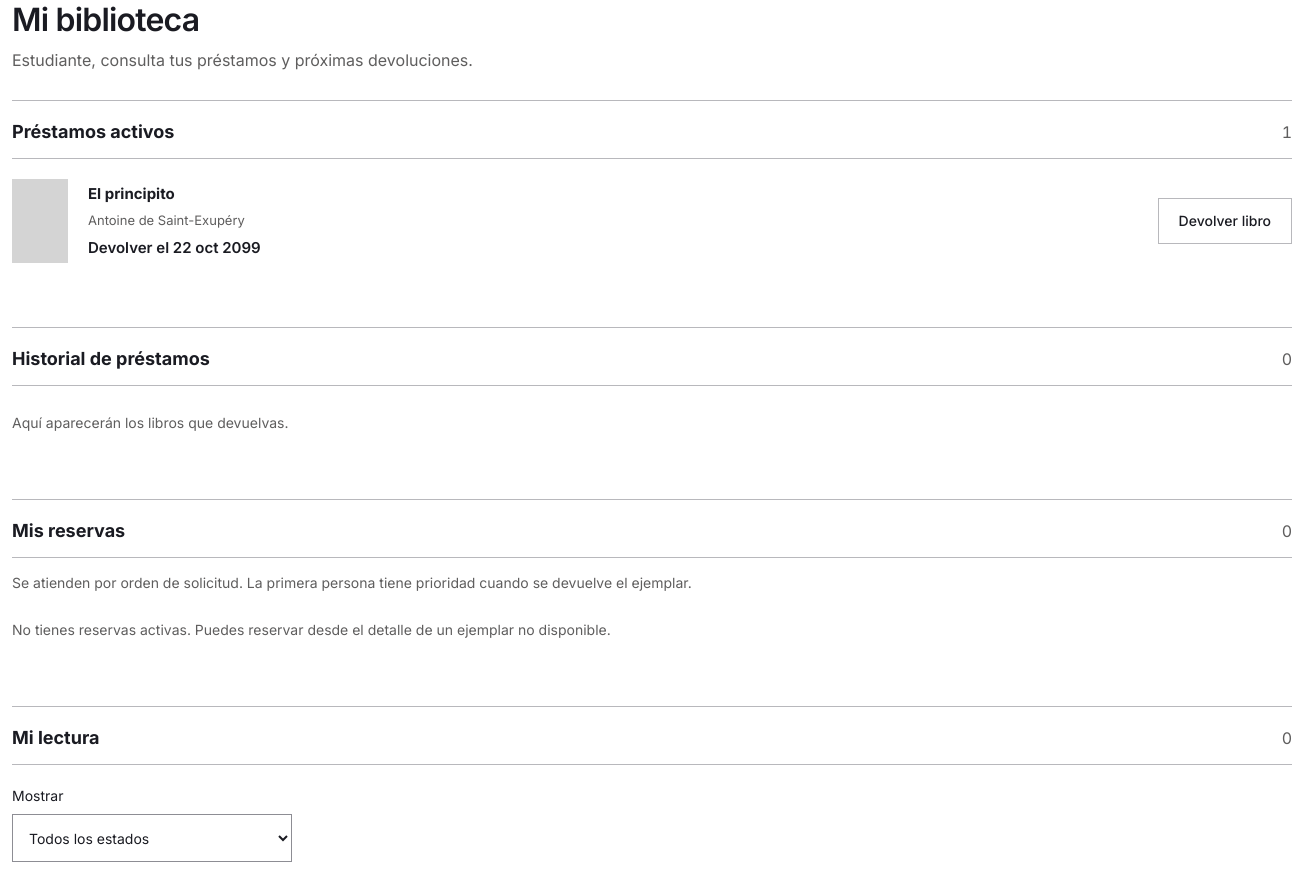
Test: LoansPage y useLoans con el cliente HTTP real › mantiene el préstamo activo si la devolución falla y permite reintentar
This screenshot has width=1304, height=888.
Click the button "Devolver libro" at {"x": 1225, "y": 221}, box [1158, 198, 1292, 244]
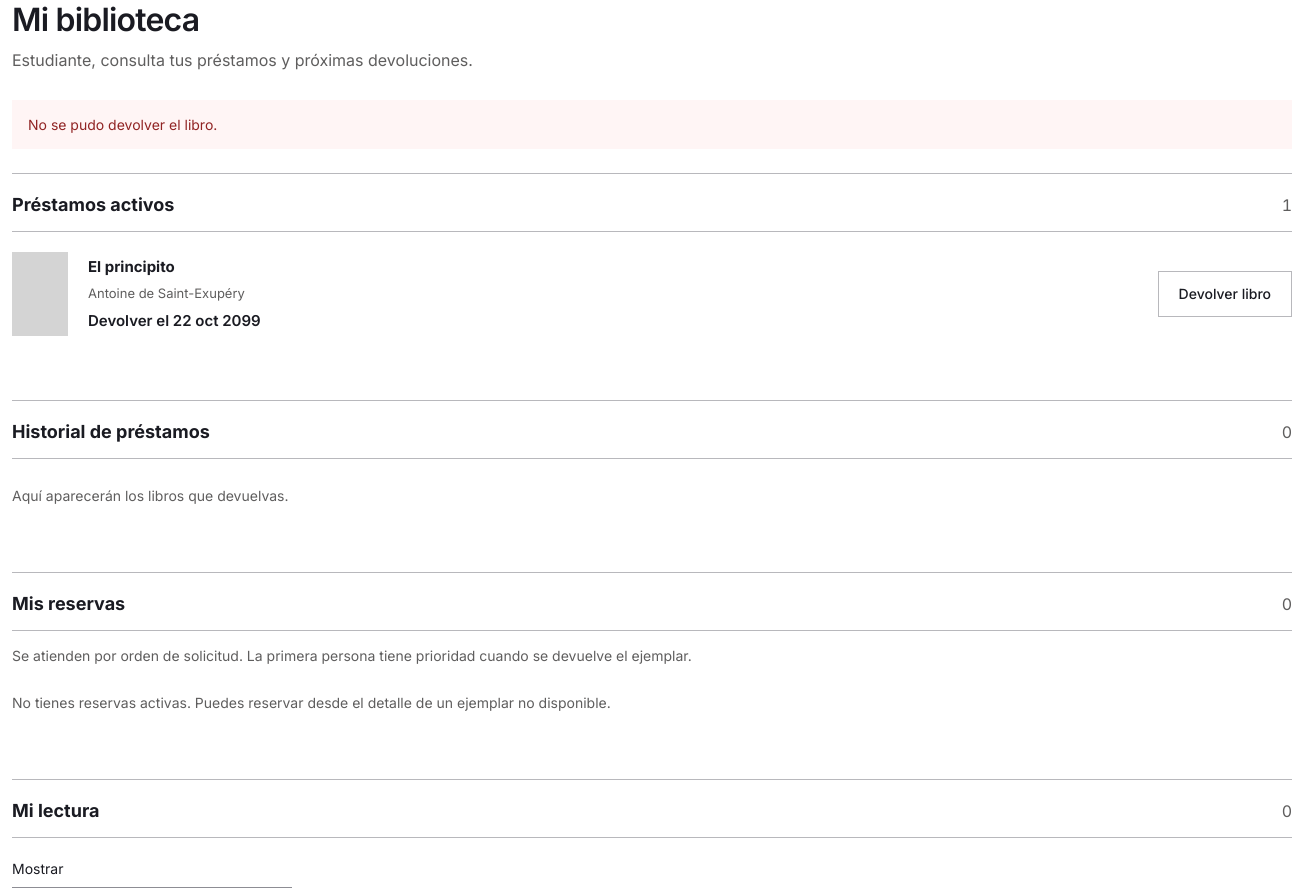
expect the message reads "No se pudo devolver el libro.": met, box [28, 116, 217, 133]
Click the button "Devolver libro" at {"x": 1225, "y": 294}, box [1158, 271, 1292, 317]
(page scrolled)
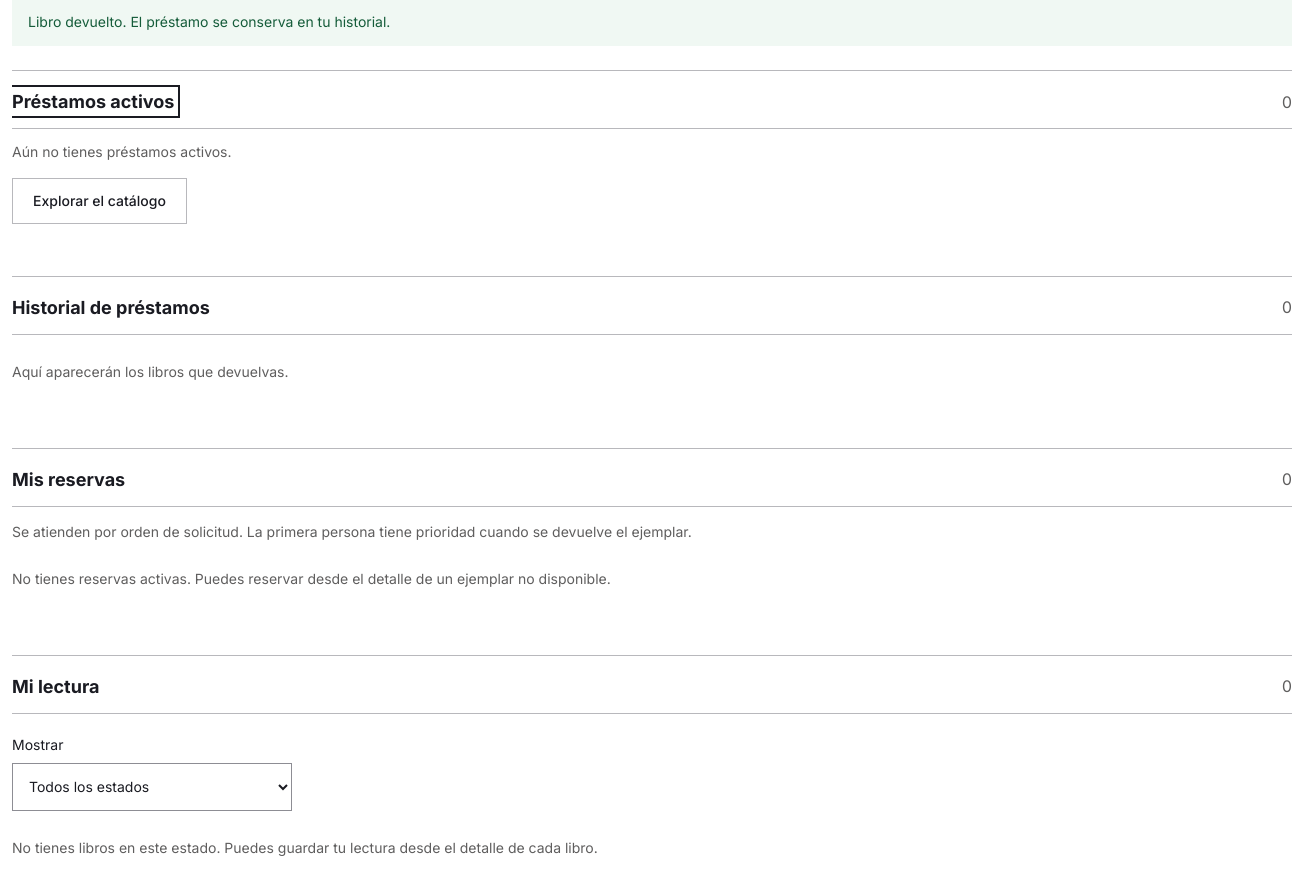
expect the text "Aún no tienes préstamos activos." is shown: met, box [12, 143, 232, 160]
